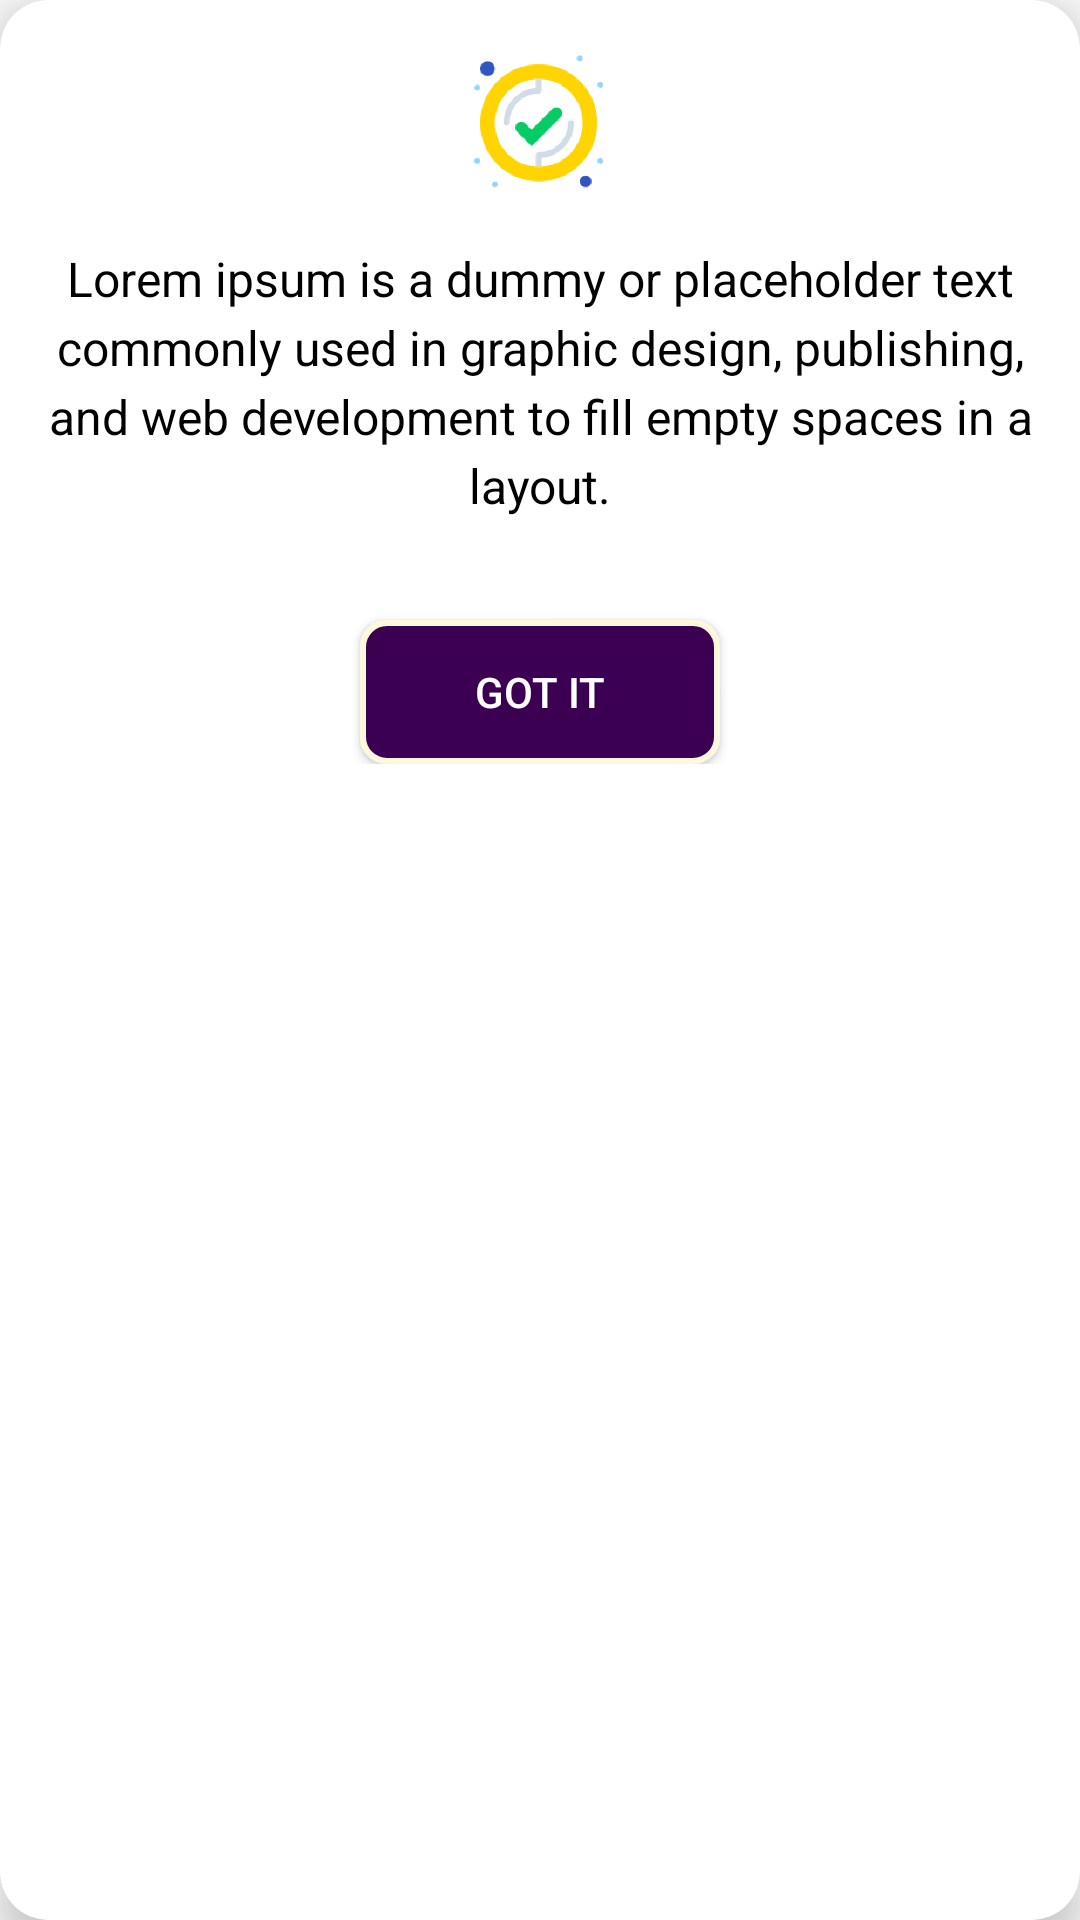

Named icons in this screenshot (1080w x 1920h) and their bounding boxes, BBox(x1, y1, x2, y2):
sucess: BBox(474, 55, 603, 188)
